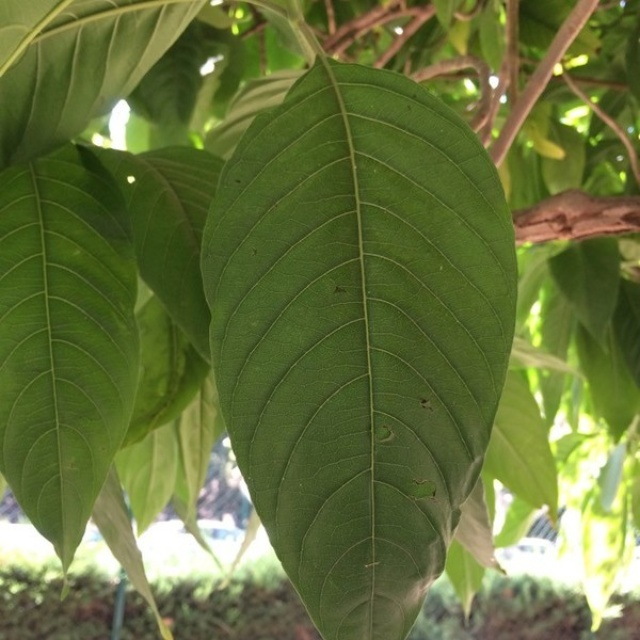obstacle: (11, 11, 500, 618)
